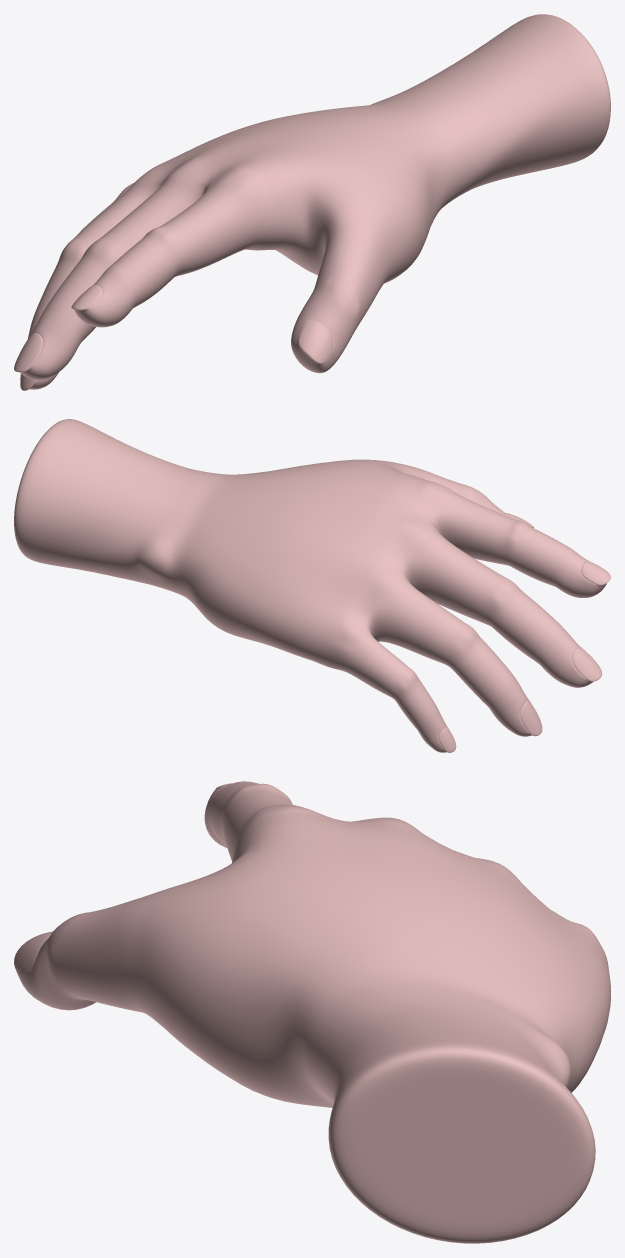
Rendered from right-hand (1).fbx.
3 renders of one model, top to bottom at view 1: azimuth 30°, elevation 25°; view 2: azimuth 150°, elevation 25°; view 3: azimuth 270°, elevation 25°, orthographic. The views are drawn at different scales.
Parts seen in each view (by area): view 1: right_hand__1_; view 2: right_hand__1_; view 3: right_hand__1_.
Boxes of the visible parts, left/top/right/bottom form: right_hand__1_: left=14, top=14, right=610, bottom=390; right_hand__1_: left=14, top=419, right=610, bottom=752; right_hand__1_: left=14, top=781, right=610, bottom=1243.
Size of the model in its own units: 90.27 by 33.93 by 54.33.
